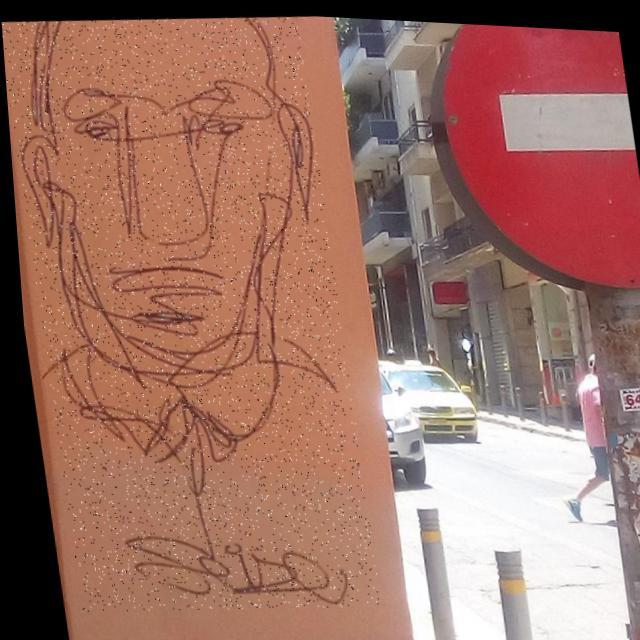-: (0, 0, 372, 623)
